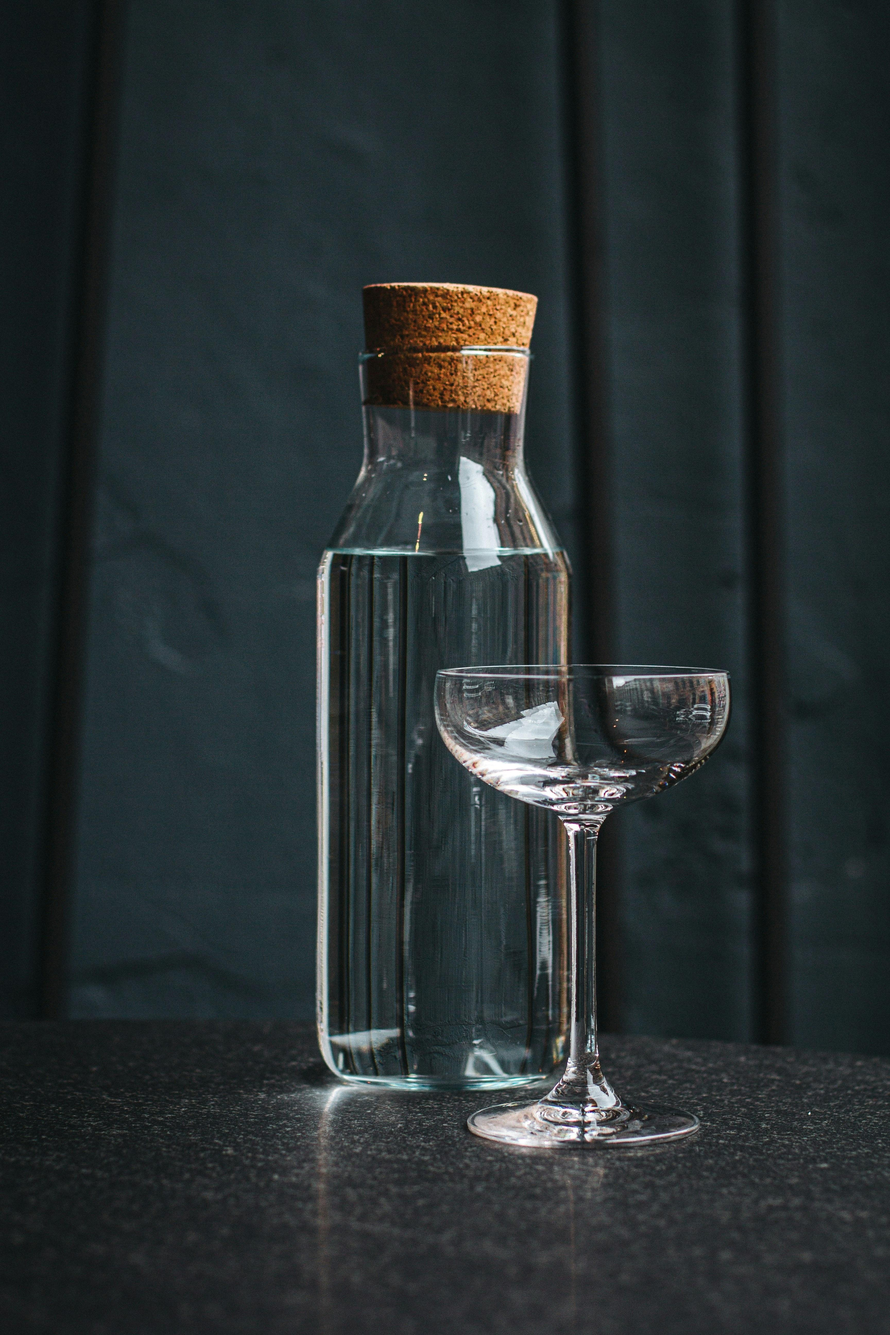Bottle-Detection: (283, 242, 610, 1118)
